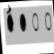correct: (19, 11, 27, 32)
not correct: (5, 3, 14, 33)
